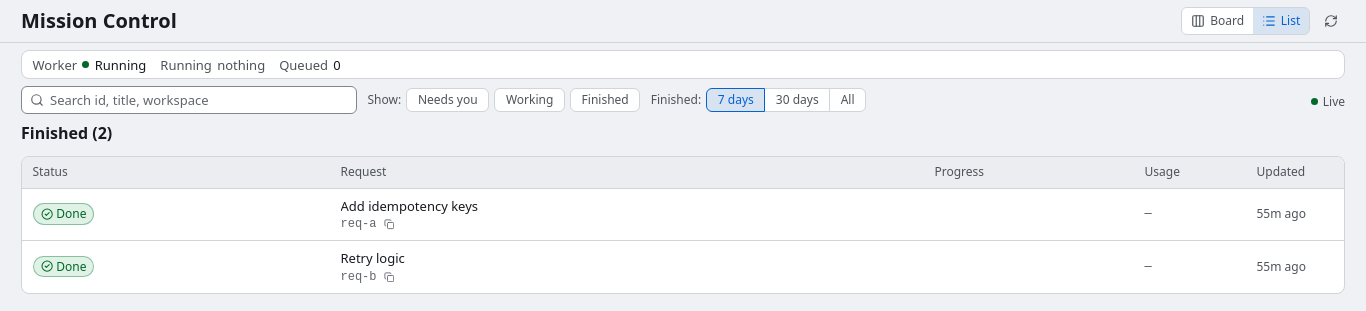
Test case: free-text search filters the board by id/title/workspace
Expected: the link "Retry logic" is shown, [340,249,405,267]
Type "idempotency" into the search field with placeholder "Search id, title, workspace" at (189, 100), box [21,86,357,114]
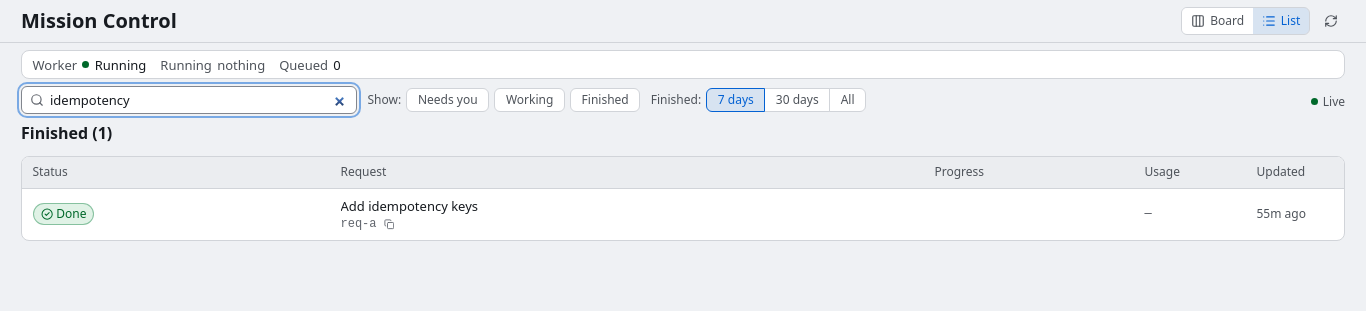
Expected: the link "Add idempotency keys" is shown, [340,196,478,214]
Now the link "Retry logic" is gone
